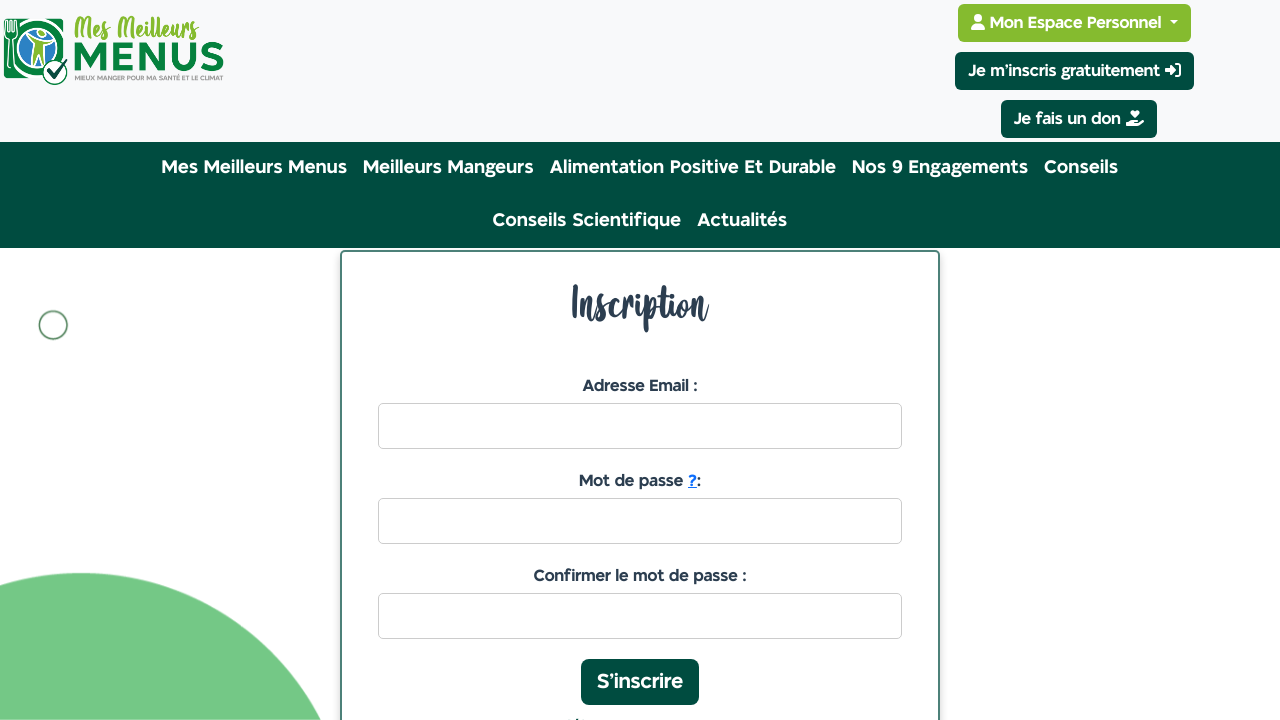
Test case: Inscription Tests › should display error message on form submission failure
expect the form is shown: met, box [358,354,922,719]
Type "test@example.com" into the field with id "email" at (640, 426), box [378,403,902,449]
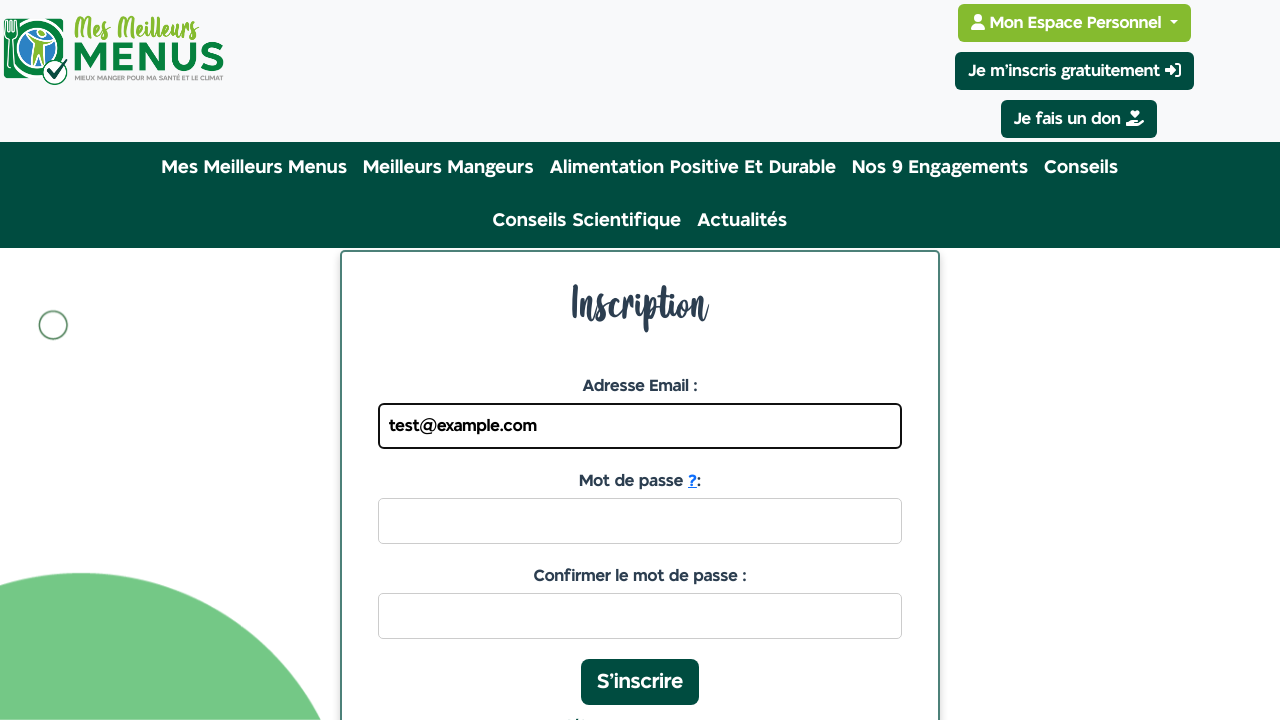
Type "ValidPassword1!" into the password field labelled "Mot de passe ? :" at (640, 521), box [378,498,902,544]
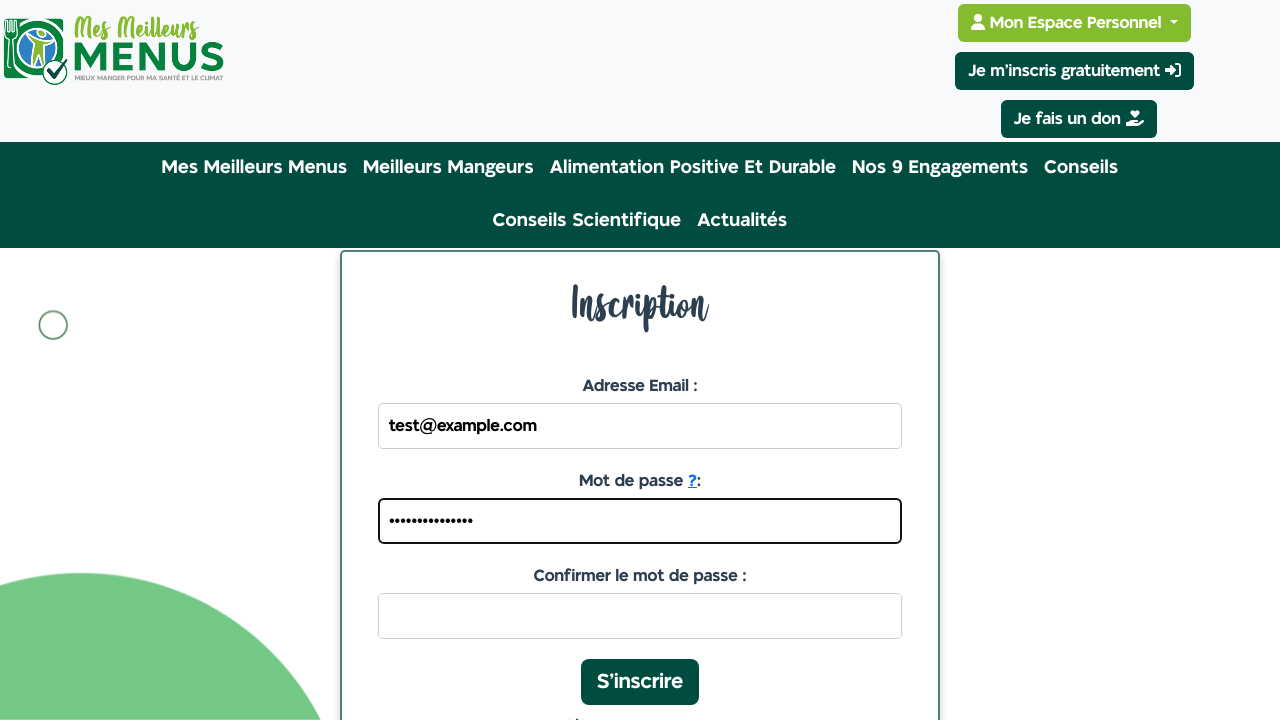
Type "ValidPassword1!" into the password field with id "confirmPassword" at (640, 616), box [378,593,902,639]
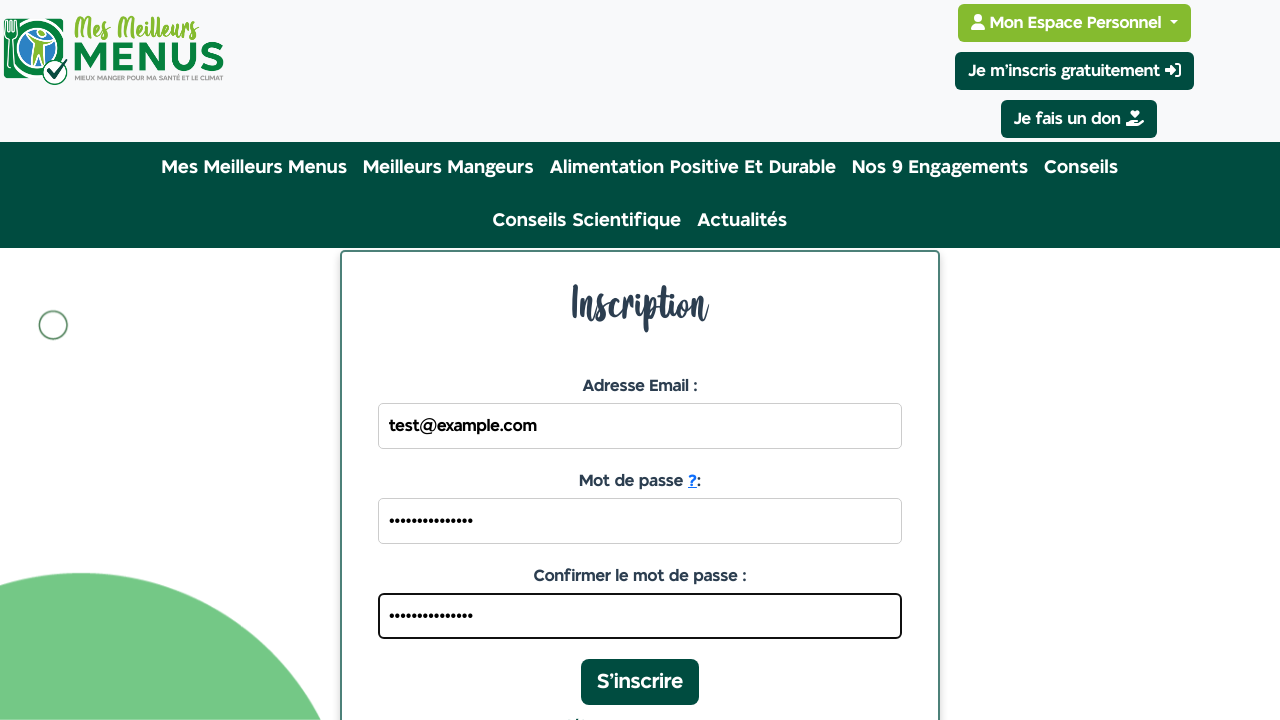
Scroll
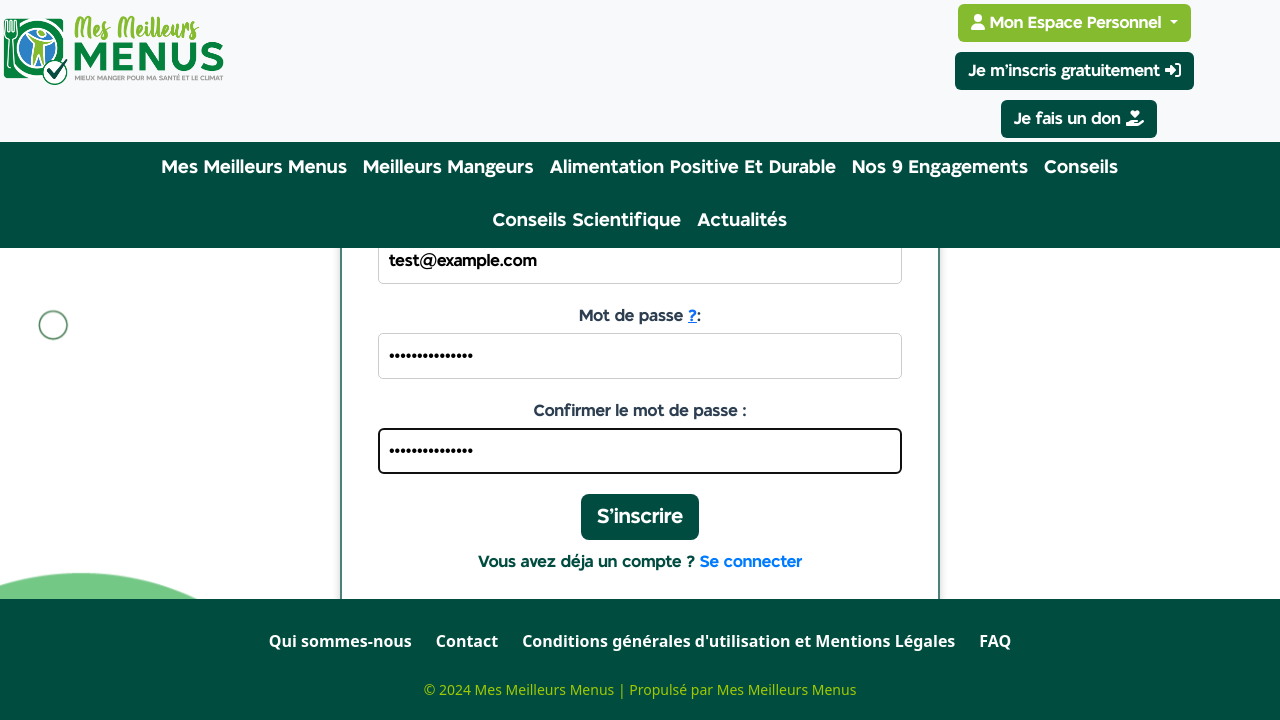
Submit the form, box [358,189,922,594]
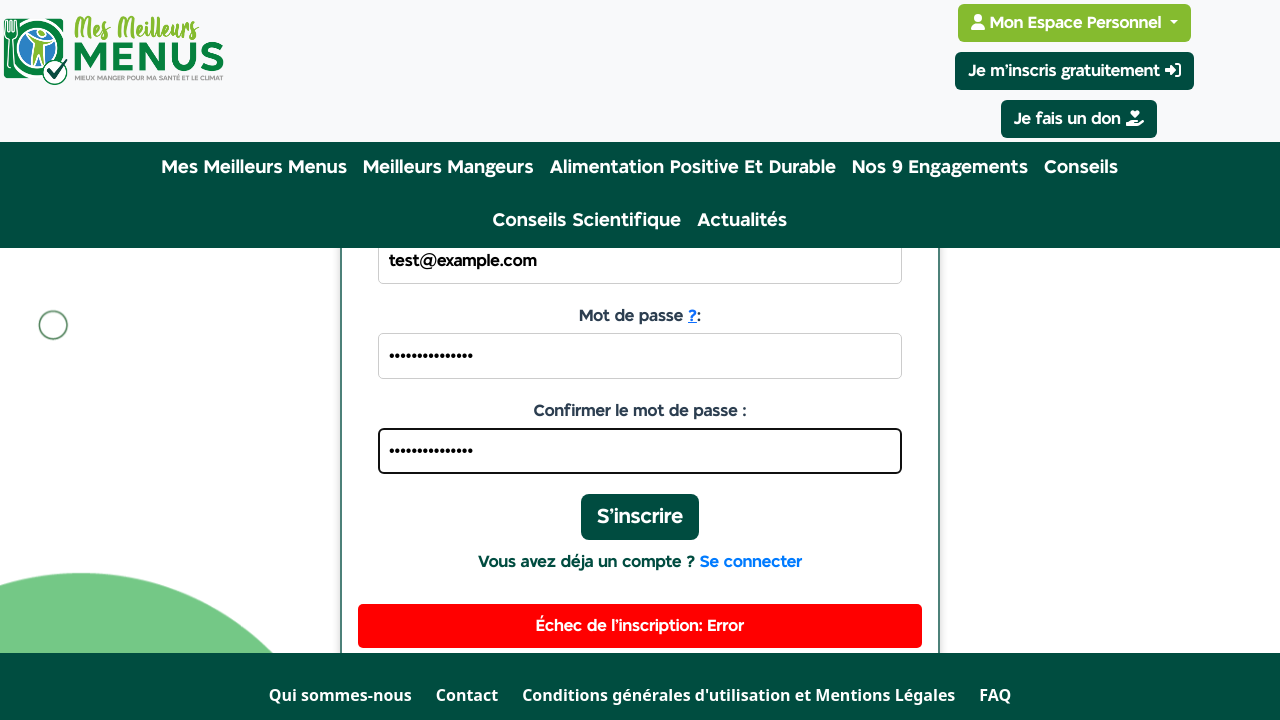
expect the text with class "success" reads "Échec de l'inscription: Error": met, box [536,618,744,634]
